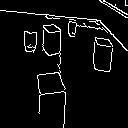cube: (32, 70, 74, 128), (89, 32, 117, 79), (41, 20, 65, 59), (20, 23, 39, 55), (68, 16, 79, 42)
